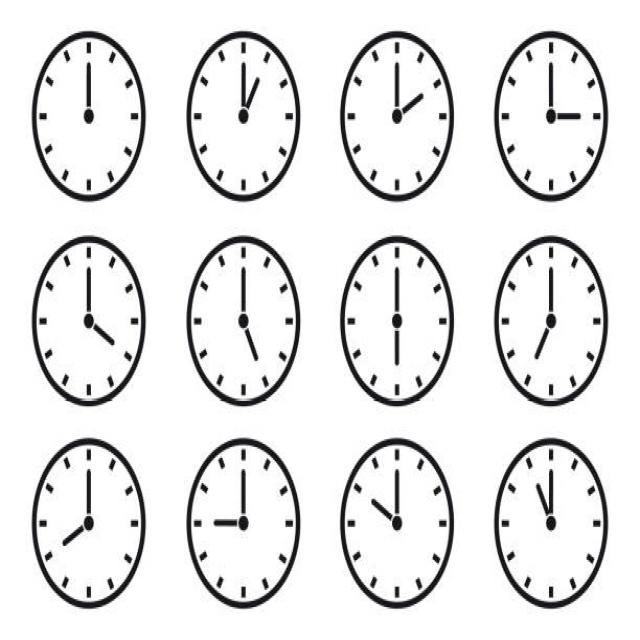clock: (16, 4, 636, 640)
